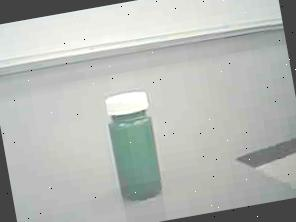Bottle C: (91, 80, 182, 213)
